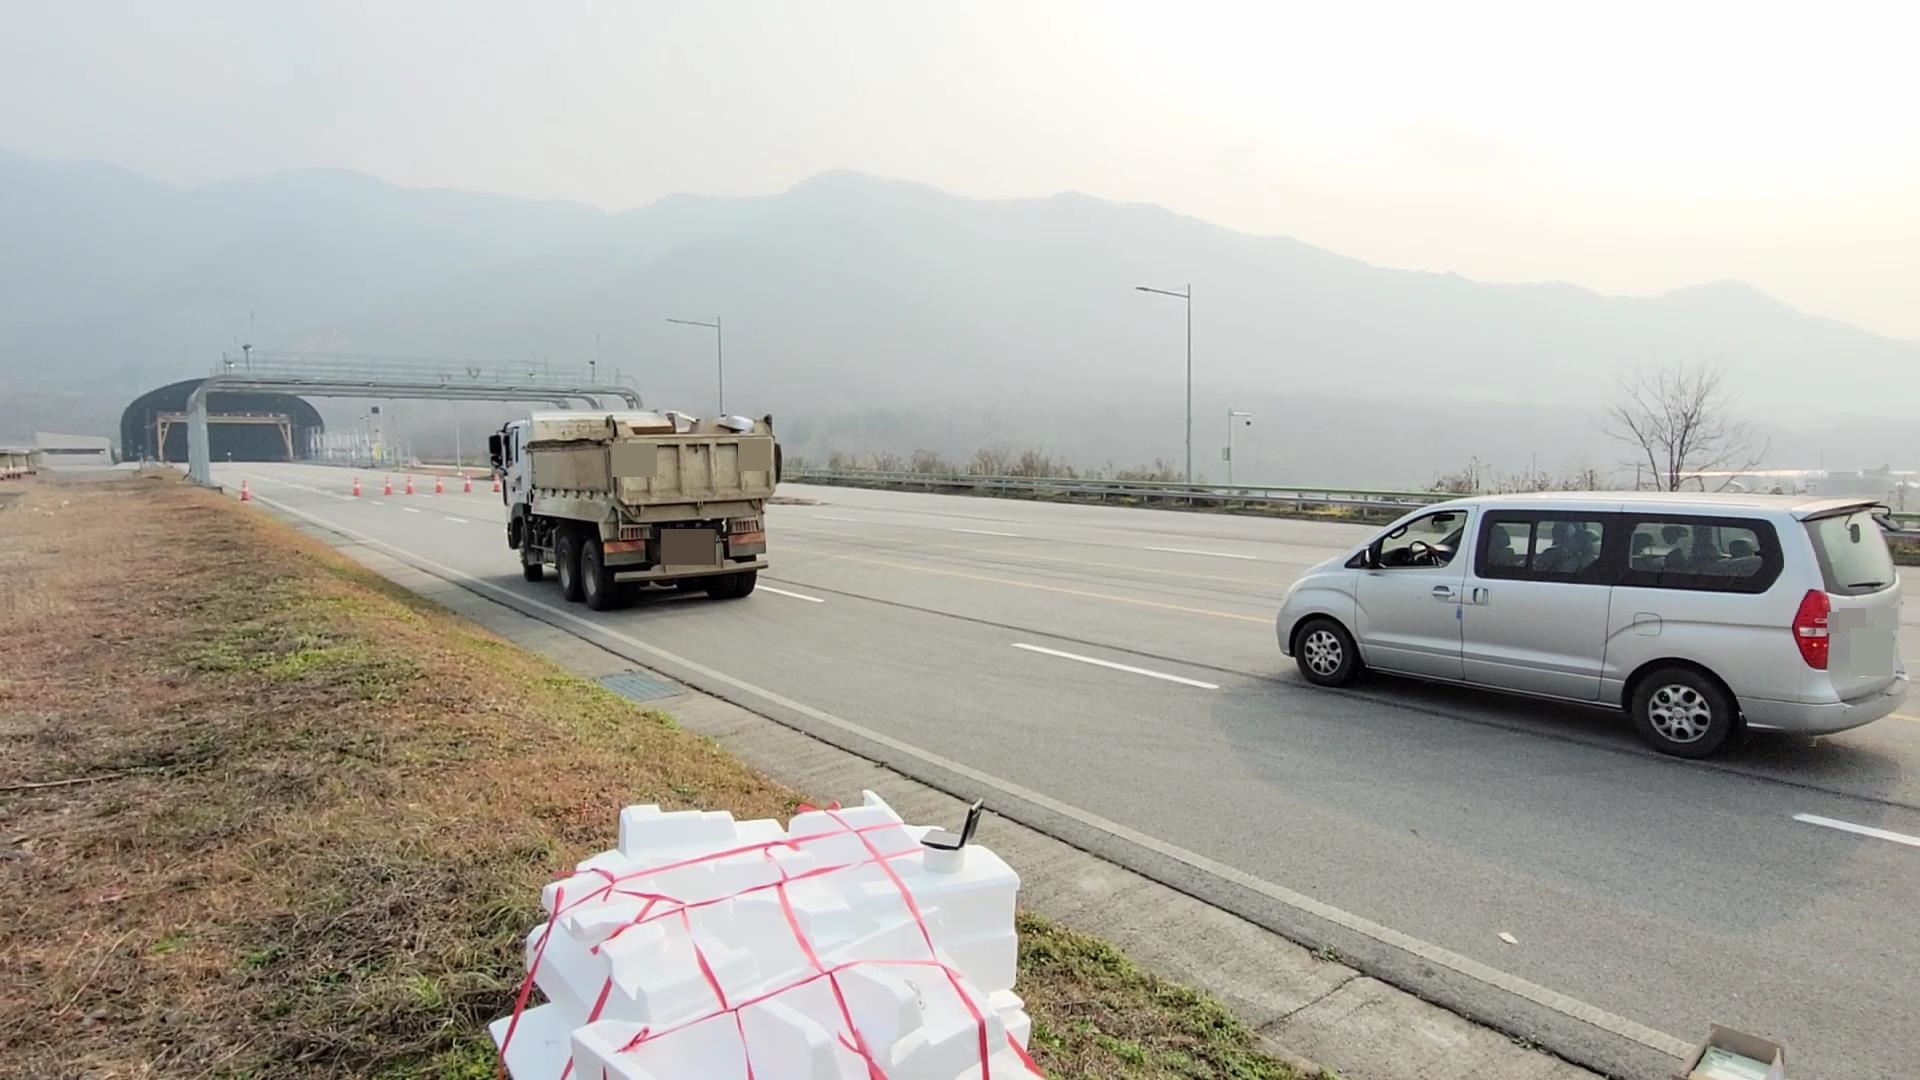불법차량: (489, 409, 782, 610)
